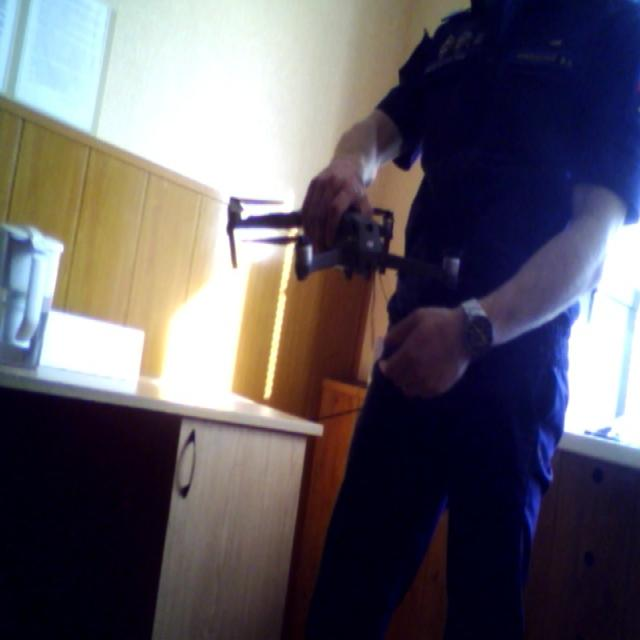drone: (208, 165, 488, 311)
